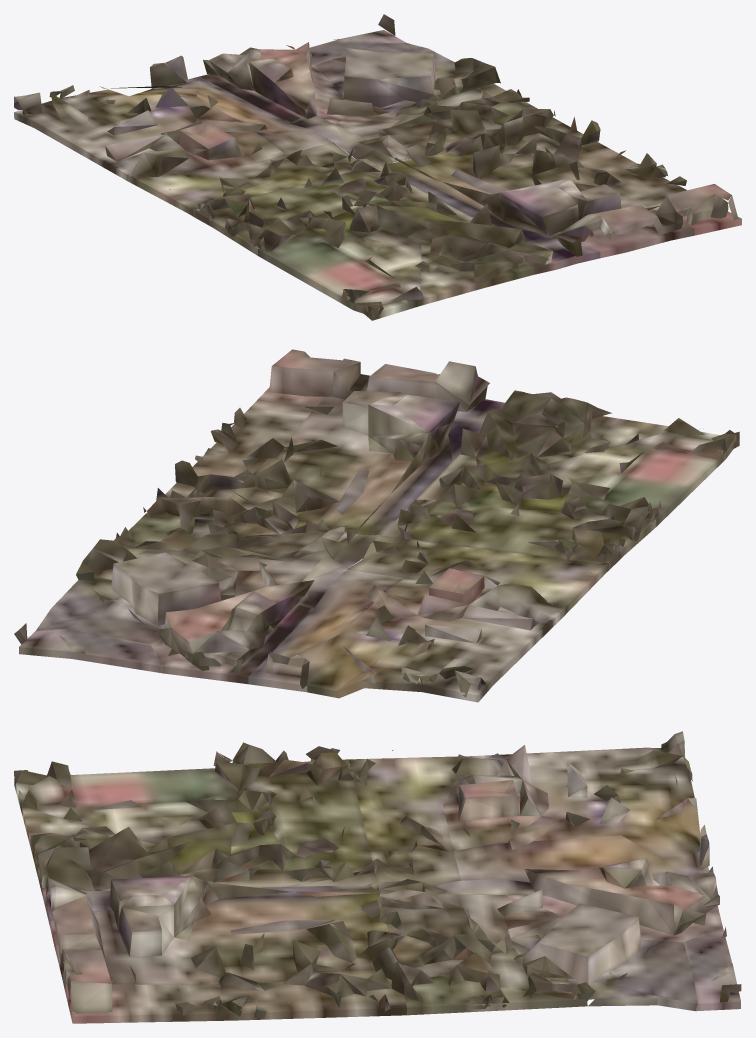
3 renders of one model, top to bottom at view 1: azimuth 30°, elevation 25°; view 2: azimuth 150°, elevation 25°; view 3: azimuth 270°, elevation 25°, orthographic. The views are drawn at different scales.
Visible parts, largest first — view 1: Mesh_0; view 2: Mesh_0; view 3: Mesh_0.
Part boxes in pixels (<box>): Mesh_0: <box>14,14,741,320</box>; Mesh_0: <box>14,349,739,702</box>; Mesh_0: <box>14,731,741,1023</box>.
Size of the model in its own units: 532 by 74.37 by 660.
Materials: 1 (1 with a texture image).
